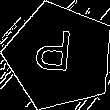P_S: (38, 30, 81, 83)
